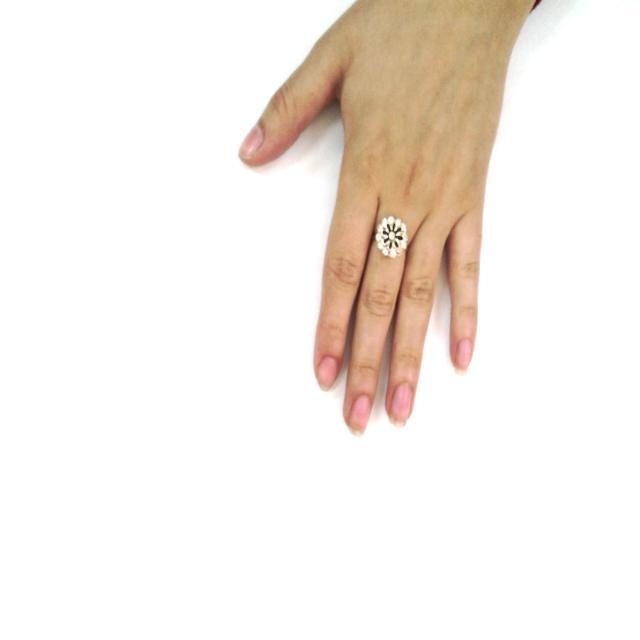Fingernail: (391, 383, 412, 426), (350, 396, 370, 436), (241, 126, 262, 155), (319, 358, 337, 389), (456, 340, 471, 372)
